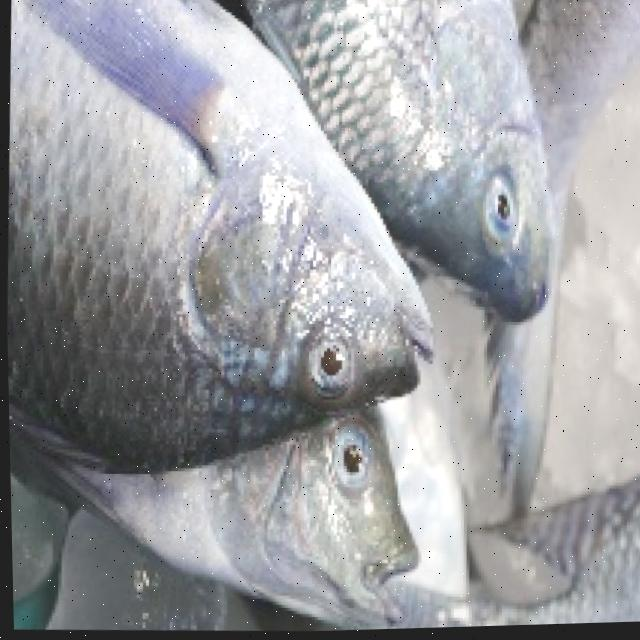Fresh: (0, 0, 324, 437), (320, 420, 380, 501), (292, 333, 360, 400)
